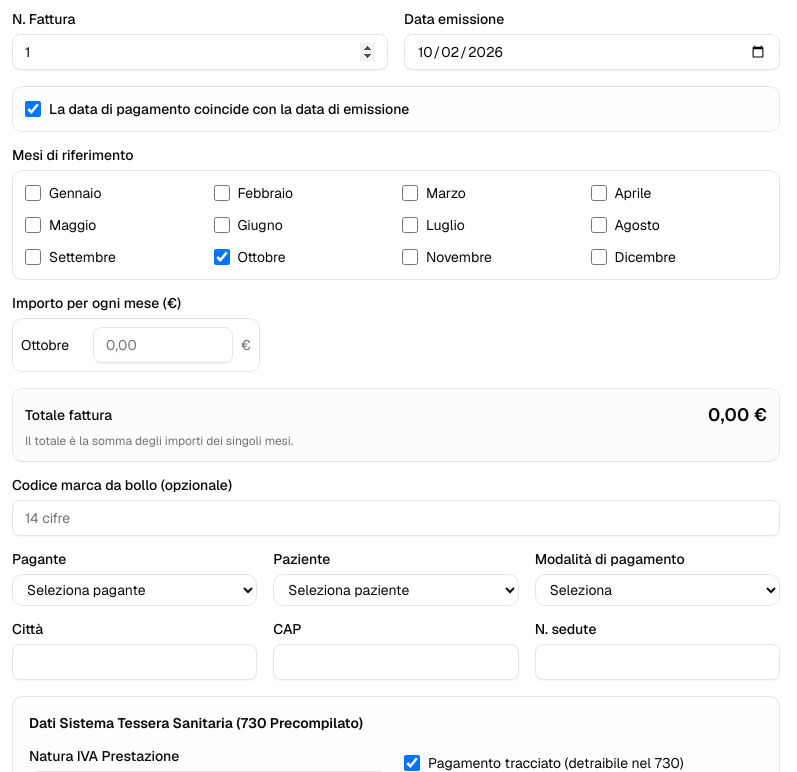
Test: InvoiceForm — Opzione data di pagamento differita › deselezionando la checkbox appare il campo data incasso / pagamento effettivo
The width and height of the screenshot is (797, 772).
Click the checkbox labelled "La data di pagamento coincide con la data di emissione" at [33, 109], box [25,101,41,117]
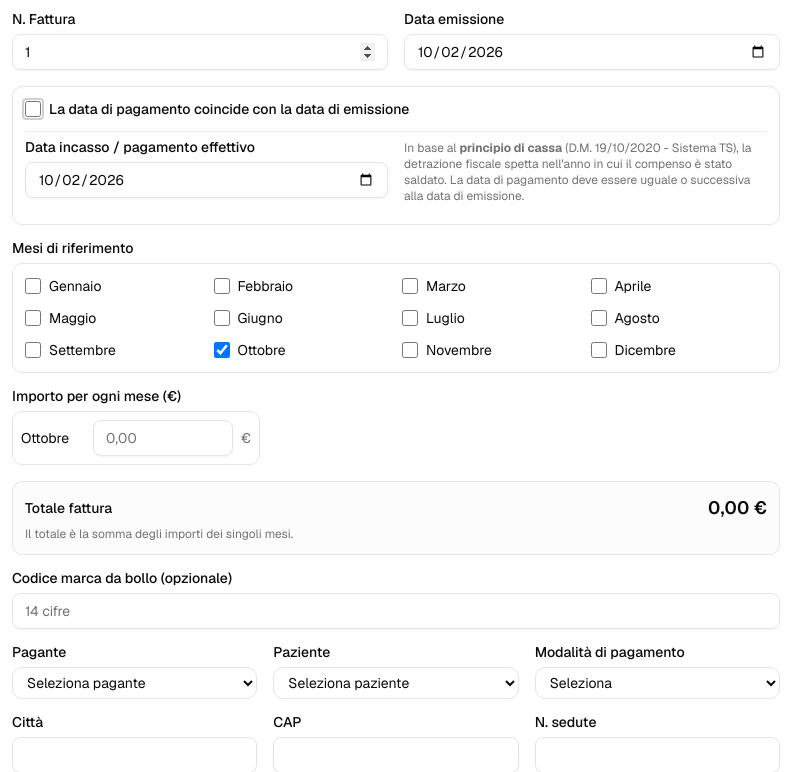
Expected: the checkbox labelled "La data di pagamento coincide con la data di emissione" is not checked, [25,101,41,117]
Expected: the date field labelled "Data incasso / pagamento effettivo" is shown, [25,162,388,198]
